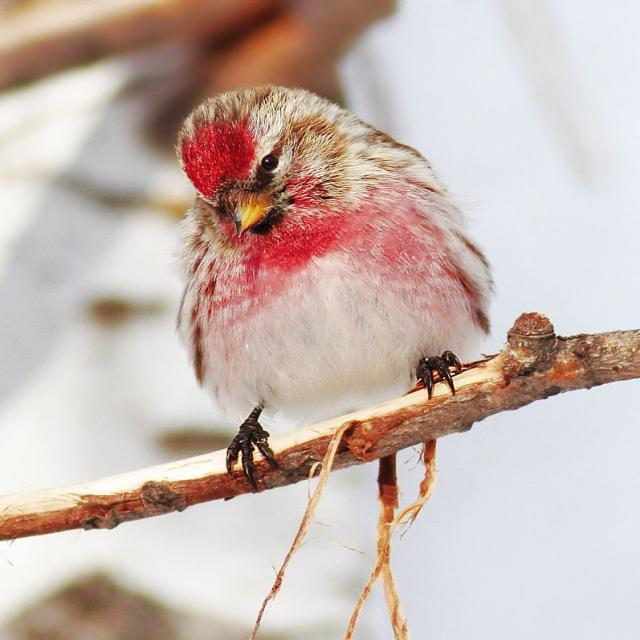bird: (161, 80, 504, 549)
